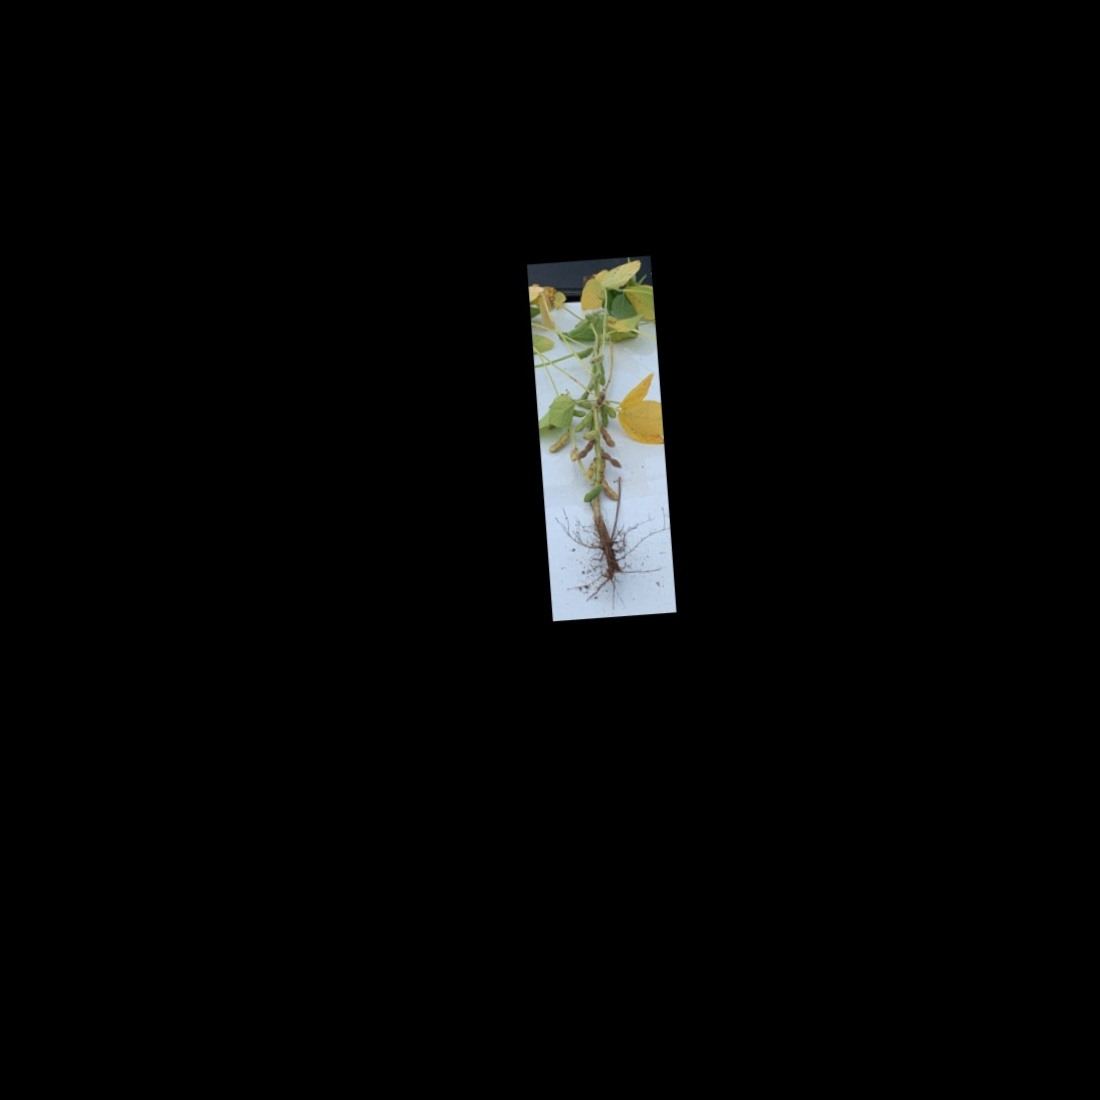pod: (545, 428, 574, 454), (573, 436, 597, 462), (598, 420, 618, 451), (569, 409, 593, 434), (600, 476, 622, 505), (601, 449, 622, 472), (579, 485, 603, 504)
soy: (532, 257, 669, 591)
